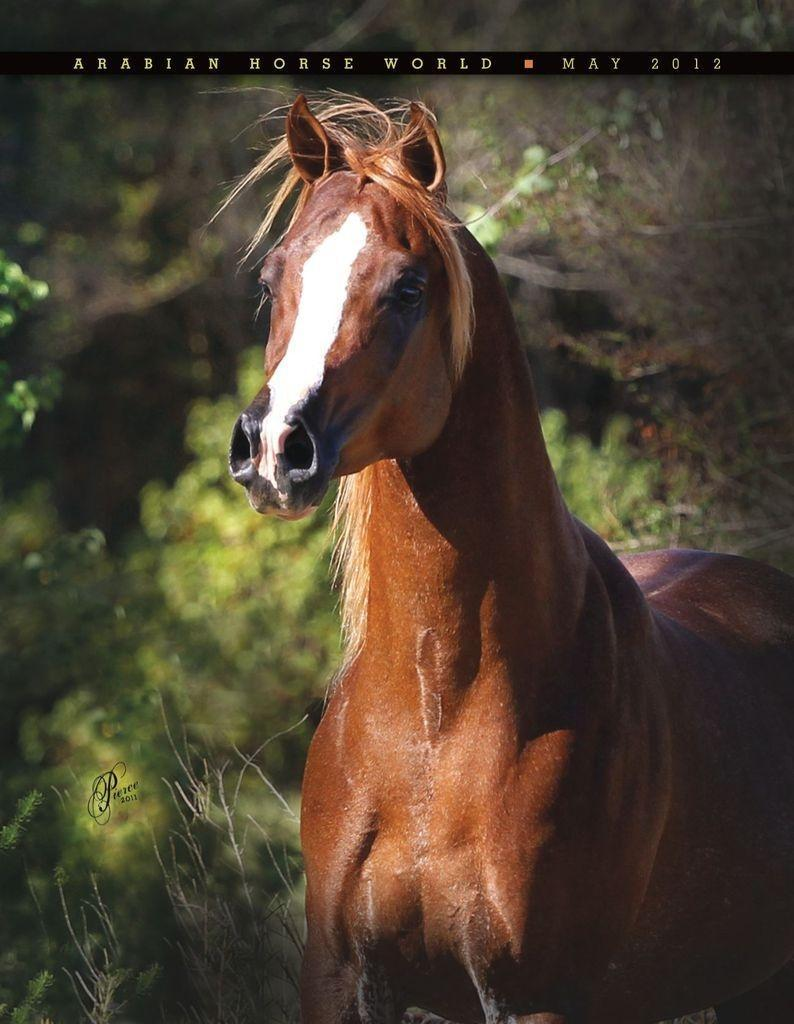horse: (204, 85, 792, 1022)
